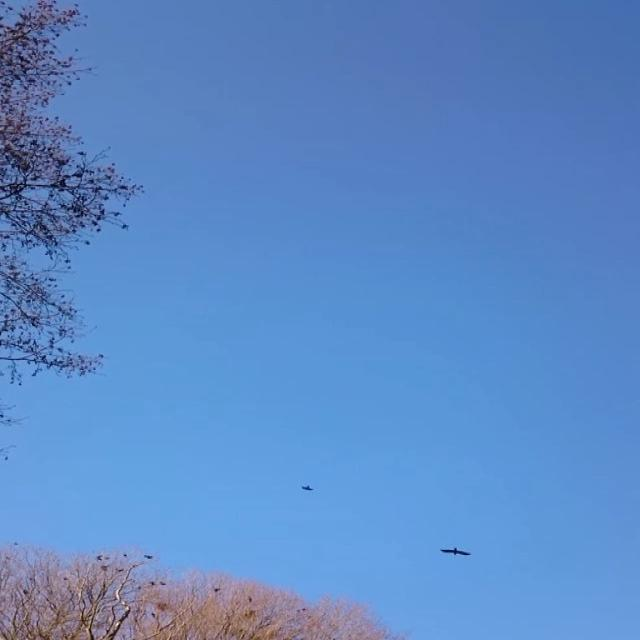bird: (434, 538, 478, 564), (297, 475, 316, 497)
